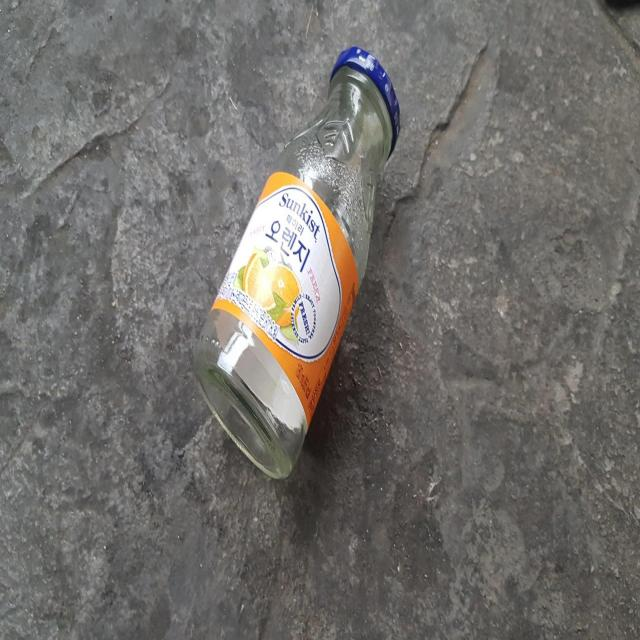glass: (195, 46, 399, 478)
